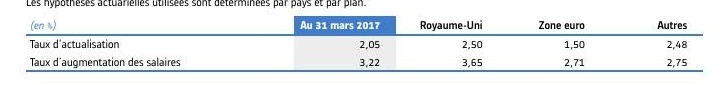table: (0, 0, 726, 85)
